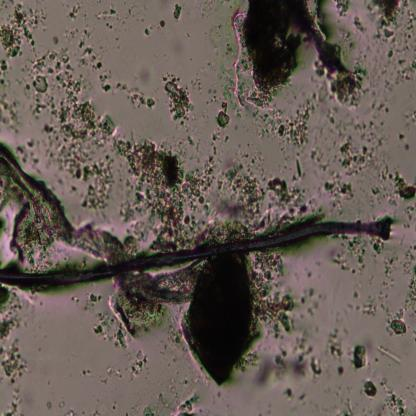Background material: (236, 0, 359, 139), (180, 256, 261, 389), (122, 141, 224, 241), (37, 100, 119, 220), (222, 165, 315, 225), (253, 86, 330, 148), (324, 139, 377, 209), (258, 250, 298, 336), (206, 15, 246, 100), (0, 289, 25, 416), (0, 3, 41, 79), (32, 48, 84, 100), (108, 292, 167, 335), (84, 292, 127, 351), (261, 338, 321, 378), (54, 0, 92, 50), (363, 1, 406, 45), (77, 43, 114, 93), (163, 72, 196, 126), (374, 162, 416, 204), (333, 238, 387, 269), (356, 94, 394, 138), (380, 49, 416, 93), (90, 11, 125, 51), (378, 376, 412, 416), (400, 242, 416, 318), (295, 278, 323, 321), (117, 79, 154, 110), (144, 396, 202, 414), (326, 325, 346, 376), (304, 144, 328, 184), (348, 292, 393, 312), (342, 18, 366, 53), (126, 344, 150, 376), (43, 393, 76, 416), (0, 93, 20, 128), (135, 58, 156, 89), (378, 340, 404, 365), (280, 383, 307, 405), (100, 360, 124, 384), (214, 99, 232, 130), (387, 311, 409, 334), (178, 135, 202, 156), (396, 122, 409, 157), (353, 343, 369, 371), (209, 133, 223, 162), (332, 1, 352, 20), (361, 380, 378, 399), (171, 2, 183, 23), (86, 404, 106, 416), (76, 371, 92, 382), (48, 32, 59, 46), (406, 111, 416, 122), (142, 25, 152, 36), (159, 20, 166, 28), (113, 401, 117, 410)
Cellulose filter fibre: (0, 141, 125, 266), (115, 273, 202, 305)
Microfibre: (0, 214, 395, 288)
